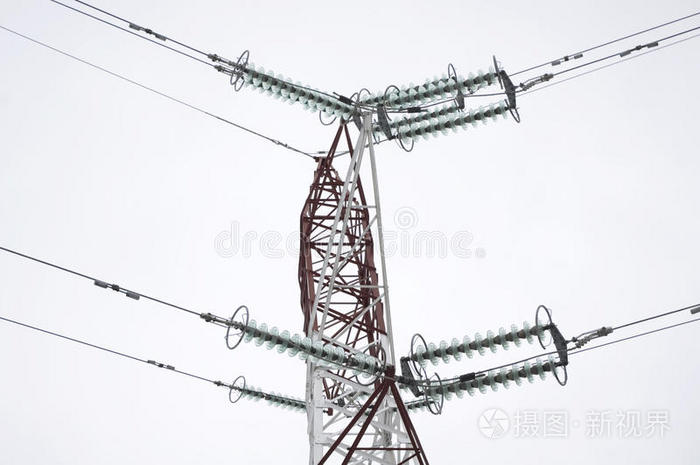insulator: (244, 318, 376, 375), (413, 316, 546, 364), (364, 64, 497, 109), (428, 357, 552, 404), (240, 68, 356, 118), (391, 98, 508, 139)
